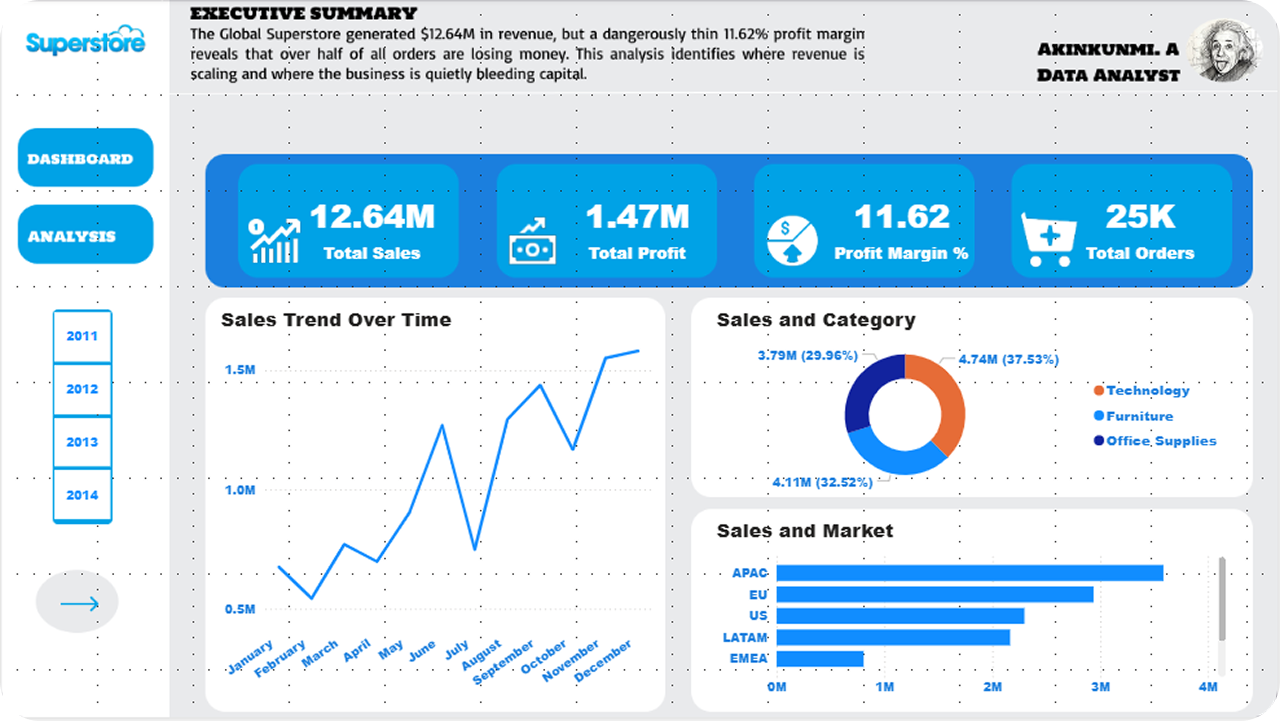

Layout of this report page (visuals, bound fields, positions):
{"tool":"powerbi","page":{"name":"Execcutive Summary","canvas":[1280,720],"ordinal":0},"visuals":[{"type":"card","fields":{"Values":["Table.Total Sales"]},"box":[285.2,185,172.5,86.3],"z":0},{"type":"slicer","fields":{"Values":["Orders.order_date.Variation.Date Hierarchy.Year"]},"box":[27.8,307.5,105.7,221.2],"z":1000},{"type":"card","fields":{"Values":["Table.Total Profit"]},"box":[563.5,185,148.9,86.3],"z":2000},{"type":"card","fields":{"Values":["Table.Profit Margin %"]},"box":[823.7,185,157.2,86.3],"z":3000},{"type":"card","fields":{"Values":["Table.Total Orders"]},"box":[1074.1,185,135,86.3],"z":4000},{"type":"lineChart","title":"Sales Trend Over Time","fields":{"Category":["Orders.order_date.Variation.Date Hierarchy.Month"],"Y":["Sum(Orders.sales)"]},"box":[215.7,307.5,441,402.1],"z":5000},{"type":"donutChart","title":"Sales and Category","fields":{"Category":["Orders.category"],"Y":["Sum(Orders.sales)"]},"box":[712.3,307.5,520.3,192],"z":6000},{"type":"barChart","title":"Sales and Market","fields":{"Category":["Orders.market"],"Y":["Sum(Orders.sales)"]},"box":[712.3,519,520.3,190.6],"z":7000}]}

Visuals, with their boxes in screenshot pixels (x1, y1, x2, y2), scaled from the page's 1280x720 canvas onto the 1280x721 screenshot:
card - Table.Total Sales: Rect(285, 185, 458, 272)
slicer - Orders.order_date.Variation.Date Hierarchy.Year: Rect(28, 308, 134, 529)
card - Table.Total Profit: Rect(564, 185, 712, 272)
card - Table.Profit Margin %: Rect(824, 185, 981, 272)
card - Table.Total Orders: Rect(1074, 185, 1209, 272)
"Sales Trend Over Time" lineChart: Rect(216, 308, 657, 711)
"Sales and Category" donutChart: Rect(712, 308, 1233, 500)
"Sales and Market" barChart: Rect(712, 520, 1233, 711)
